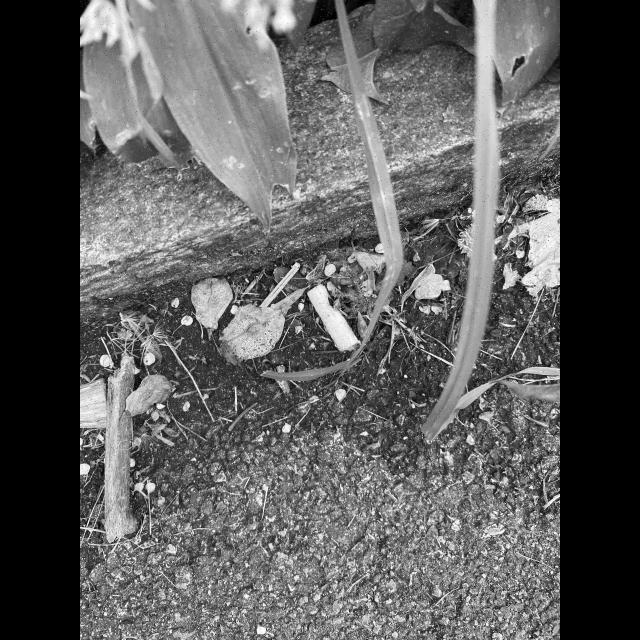cigarette: (307, 284, 358, 352)
